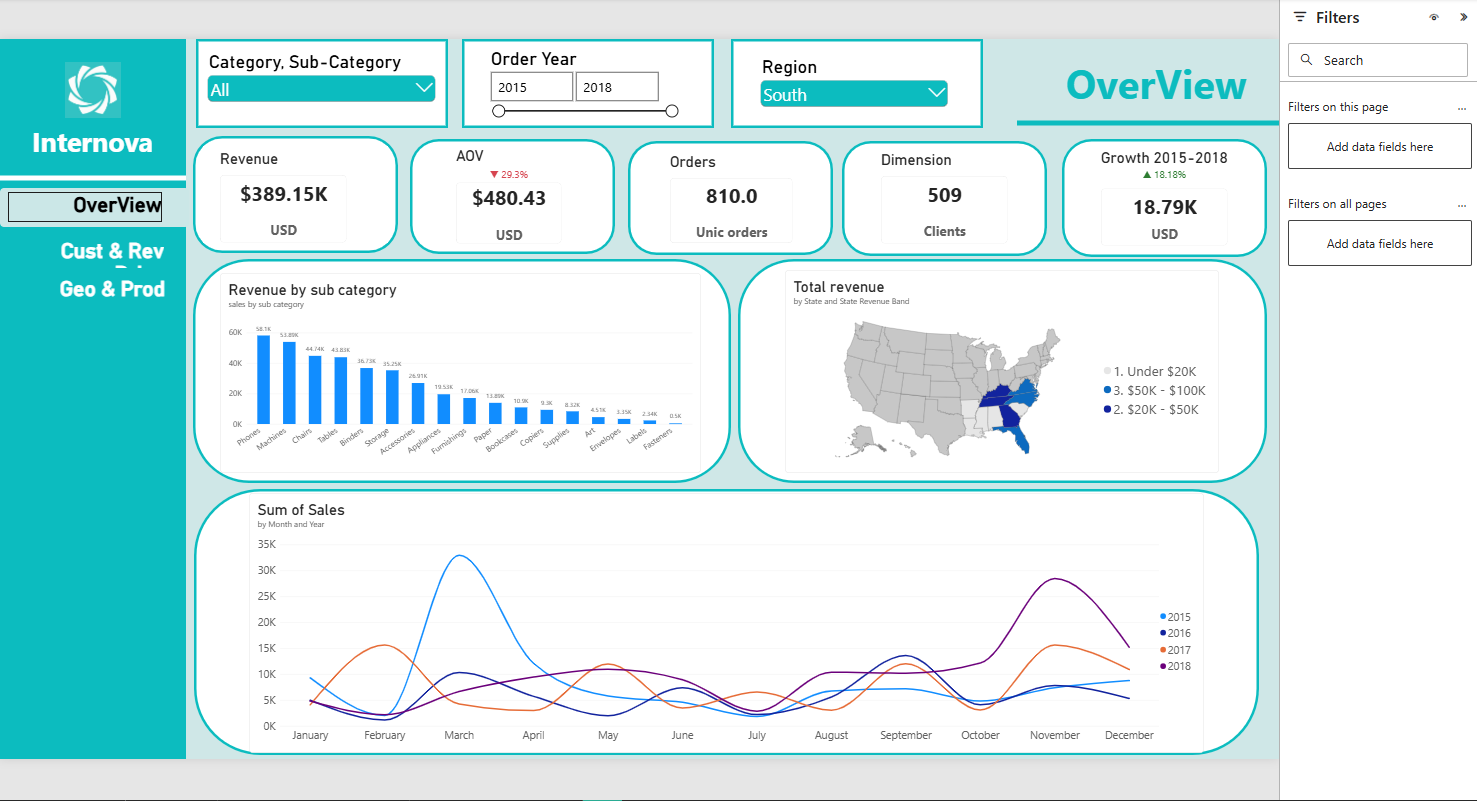

The dashboard page shown, as its layout file describes it:
{"tool":"powerbi","page":{"name":"Overview","canvas":[2560,1440],"ordinal":0},"visuals":[{"type":"shape","box":[388,194,410,234],"z":0},{"type":"cardVisual","title":"Revenue","fields":{"Data":["Sum(superstore_clean.Sales)"]},"box":[442,222,253.3,185],"z":1000},{"type":"shape","box":[1258,204,410,228],"z":2000},{"type":"cardVisual","title":"Orders","fields":{"Data":["Count(superstore_clean.Order ID)"]},"box":[1342,228,245,180],"z":3000},{"type":"shape","box":[0,0,374,1440],"z":4000},{"type":"textbox","box":[0,168,374,112],"z":5000},{"type":"shape","box":[388,440,1076,448],"z":6000},{"type":"shape","box":[2126,200,410,236],"z":7000},{"type":"shape","box":[1686,204,410,230],"z":8000},{"type":"cardVisual","title":"Dimension","fields":{"Data":["Count(superstore_clean.Customer ID)"]},"box":[1764,224,253.3,185],"z":9000},{"type":"cardVisual","title":"Growth 2015-2018","fields":{"Data":["superstore_clean.Growth 2015-2018 USD"]},"box":[2204,220,253.3,193.3],"z":10000},{"type":"shape","box":[822,200,410,230],"z":11000},{"type":"cardVisual","title":"AOV","fields":{"Data":["superstore_clean.AOV"]},"box":[914,216,211.7,193.3],"z":12000},{"type":"shape","box":[390,900,2130,532],"z":13000},{"type":"clusteredColumnChart","title":"Revenue by sub category","fields":{"Category":["superstore_clean.Sub-Category"],"Y":["Sum(superstore_clean.Sales)"]},"box":[442,468,962,400],"z":14000},{"type":"shape","box":[0,240,374,76],"z":15000},{"type":"lineChart","fields":{"Category":["superstore_clean.Order Date.Variation.Date Hierarchy.Month"],"Series":["superstore_clean.Order Date.Variation.Date Hierarchy.Year"],"Y":["Sum(superstore_clean.Sales)"]},"box":[500,908,1910,520],"z":16000},{"type":"shape","box":[394,0,504,178],"z":17000},{"type":"slicer","fields":{"Values":["superstore_clean.Category","superstore_clean.Sub-Category"]},"box":[412,24,466,132],"z":18000},{"type":"shape","box":[1478,440,1058,448],"z":19000},{"type":"shapeMap","fields":{"Category":["superstore_clean.State"],"Series":["superstore_clean.State Revenue Band"]},"box":[1572,462,868,406],"z":20000},{"type":"image","box":[124,46,128.3,111.7],"z":21000},{"type":"shape","box":[2,298,378,78],"z":22000},{"type":"actionButton","title":"OverView","box":[18,306,308,60],"z":23000},{"type":"actionButton","title":"Cust & Rev Drivs","box":[16,398,314,60],"z":24000},{"type":"actionButton","title":"Geo & Prod","box":[14,474,318,60],"z":25000},{"type":"shape","box":[926,0,504,178],"z":26000},{"type":"shape","box":[1464,0,504,178],"z":27000},{"type":"slicer","title":"Year","fields":{"Values":["superstore_clean.Order Year"]},"box":[976,18,386,232],"z":28000},{"type":"slicer","fields":{"Values":["superstore_clean.Region"]},"box":[1518,34,385,111.7],"z":29000},{"type":"textbox","box":[2110,34,410,122],"z":30000},{"type":"shape","box":[2036,130,524,76],"z":31000}]}

Visuals, with their boxes on the page's 2560x1440 design canvas (x1, y1, x2, y2). These are canvas units, not pixel positions in the 1477x801 screenshot, which may show the page scaled, cropped or inside an application window:
shape: [388, 194, 798, 428]
"Revenue" cardVisual: [442, 222, 695, 407]
shape: [1258, 204, 1668, 432]
"Orders" cardVisual: [1342, 228, 1587, 408]
shape: [0, 0, 374, 1440]
textbox: [0, 168, 374, 280]
shape: [388, 440, 1464, 888]
shape: [2126, 200, 2536, 436]
shape: [1686, 204, 2096, 434]
"Dimension" cardVisual: [1764, 224, 2017, 409]
"Growth 2015-2018" cardVisual: [2204, 220, 2457, 413]
shape: [822, 200, 1232, 430]
"AOV" cardVisual: [914, 216, 1126, 409]
shape: [390, 900, 2520, 1432]
"Revenue by sub category" clusteredColumnChart: [442, 468, 1404, 868]
shape: [0, 240, 374, 316]
lineChart - superstore_clean.Order Date.Variation.Date Hierarchy.Month x superstore_clean.Order Date.Variation.Date Hierarchy.Year: [500, 908, 2410, 1428]
shape: [394, 0, 898, 178]
slicer - superstore_clean.Category x superstore_clean.Sub-Category: [412, 24, 878, 156]
shape: [1478, 440, 2536, 888]
shapeMap - superstore_clean.State x superstore_clean.State Revenue Band: [1572, 462, 2440, 868]
image: [124, 46, 252, 158]
shape: [2, 298, 380, 376]
"OverView" actionButton: [18, 306, 326, 366]
"Cust & Rev Drivs" actionButton: [16, 398, 330, 458]
"Geo & Prod" actionButton: [14, 474, 332, 534]
shape: [926, 0, 1430, 178]
shape: [1464, 0, 1968, 178]
"Year" slicer: [976, 18, 1362, 250]
slicer - superstore_clean.Region: [1518, 34, 1903, 146]
textbox: [2110, 34, 2520, 156]
shape: [2036, 130, 2560, 206]
